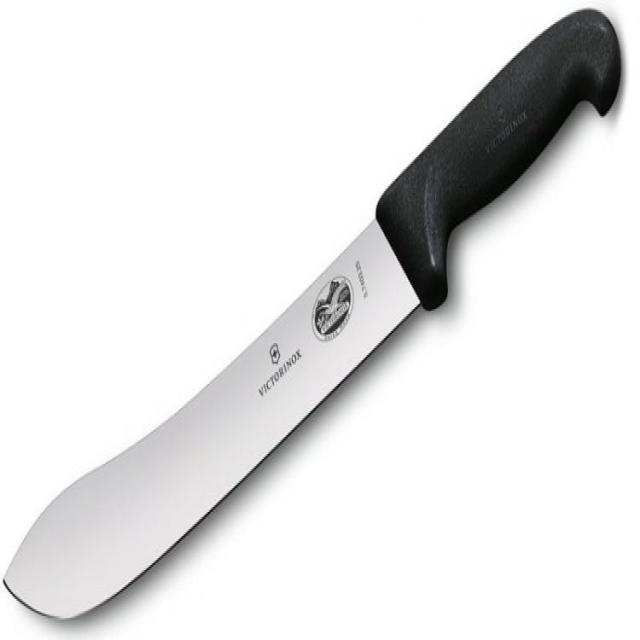Pisau: (4, 1, 625, 640)
